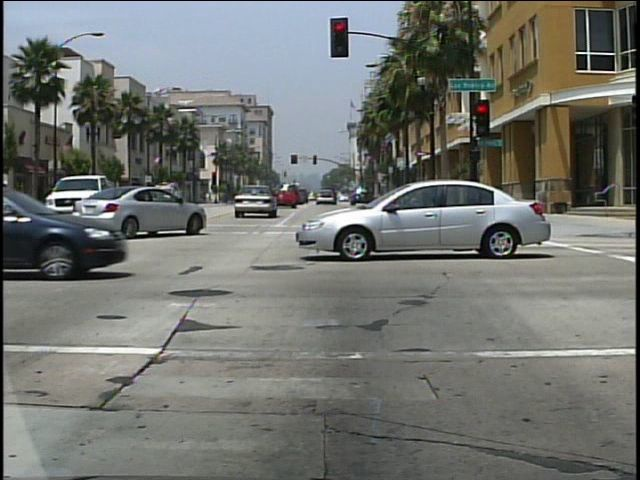person: (2, 176, 25, 231)
